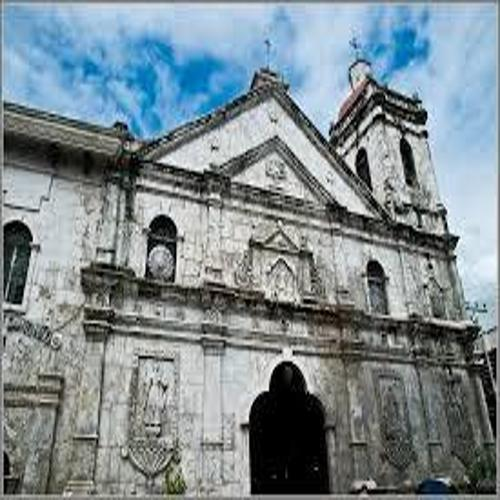Sto. Nino Basilica Church: (118, 24, 495, 495)
